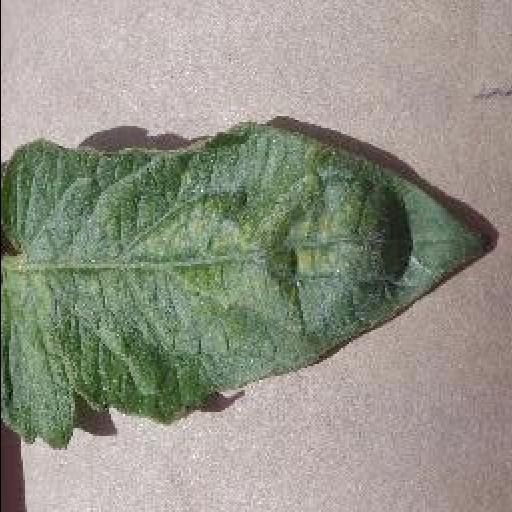disease_tomato: (0, 120, 486, 446)
